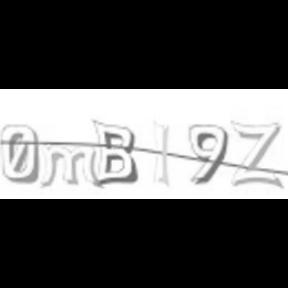0: (1, 124, 39, 184)
9: (187, 122, 229, 186)
B: (91, 117, 140, 189)
I: (149, 118, 173, 190)
Z: (231, 119, 284, 190)
m: (38, 144, 104, 190)
